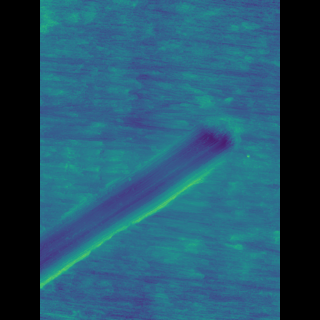Loch: (69, 115, 224, 291)
